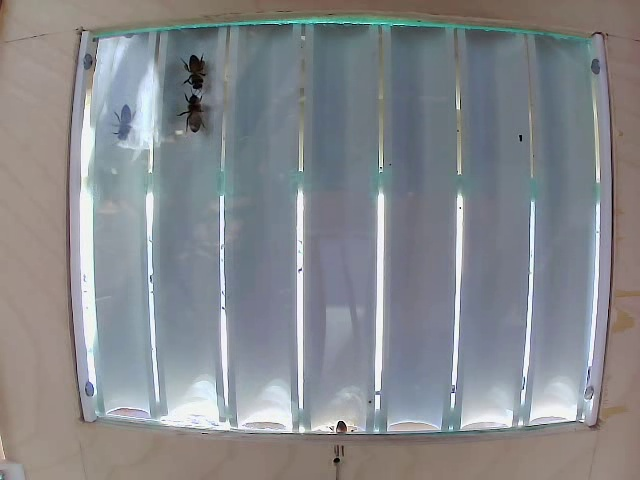bee: (108, 106, 148, 156), (183, 54, 221, 97), (184, 93, 220, 136)
